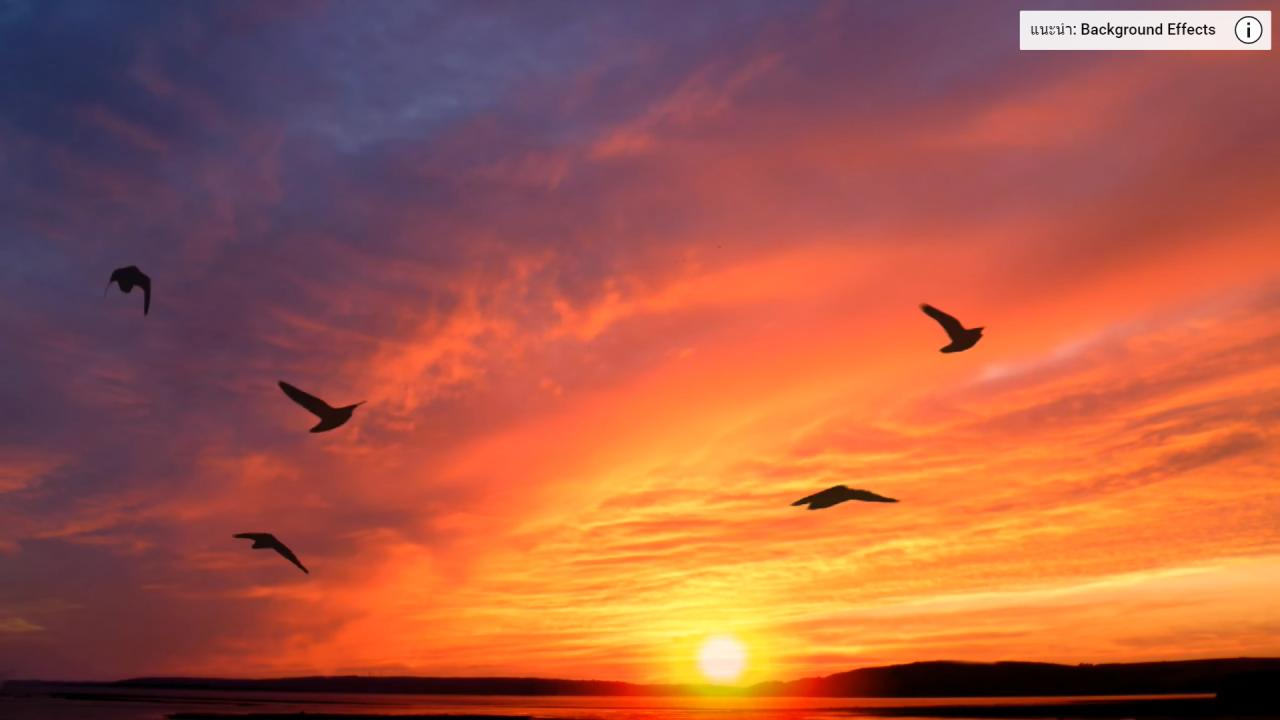Bird: (271, 376, 373, 442), (912, 296, 991, 362), (226, 524, 314, 583), (786, 478, 905, 516), (98, 257, 158, 321)
